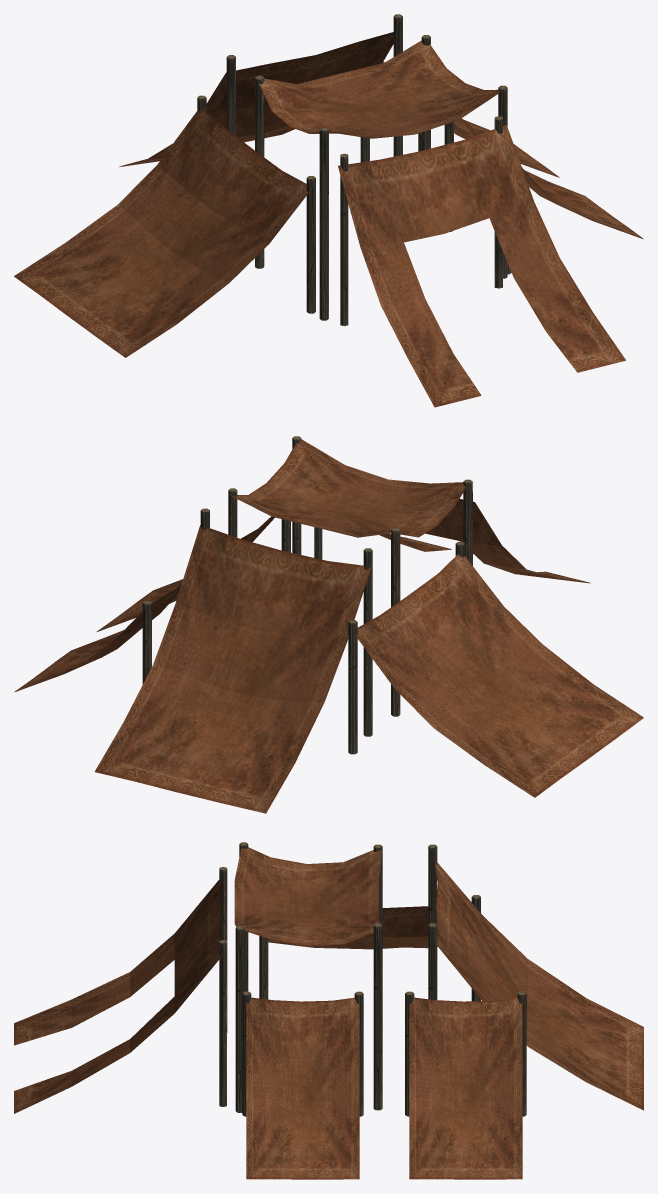
File: Shed04_Build_001.FBX
3 views of the same model, one above another, from view 1: azimuth 30°, elevation 25°; view 2: azimuth 150°, elevation 25°; view 3: azimuth 270°, elevation 25° (orthographic). The views are drawn at different scales.
Parts seen in each view (by area): view 1: Shed04_Build_001; view 2: Shed04_Build_001; view 3: Shed04_Build_001.
Boxes of the visible parts, box(x1,y1,x2,y2) form: Shed04_Build_001: box(14, 14, 643, 407); Shed04_Build_001: box(14, 436, 643, 813); Shed04_Build_001: box(14, 842, 643, 1179).
Bounding box in the file's own units: 519 × 184 × 573.
1 material, 1 textured.
